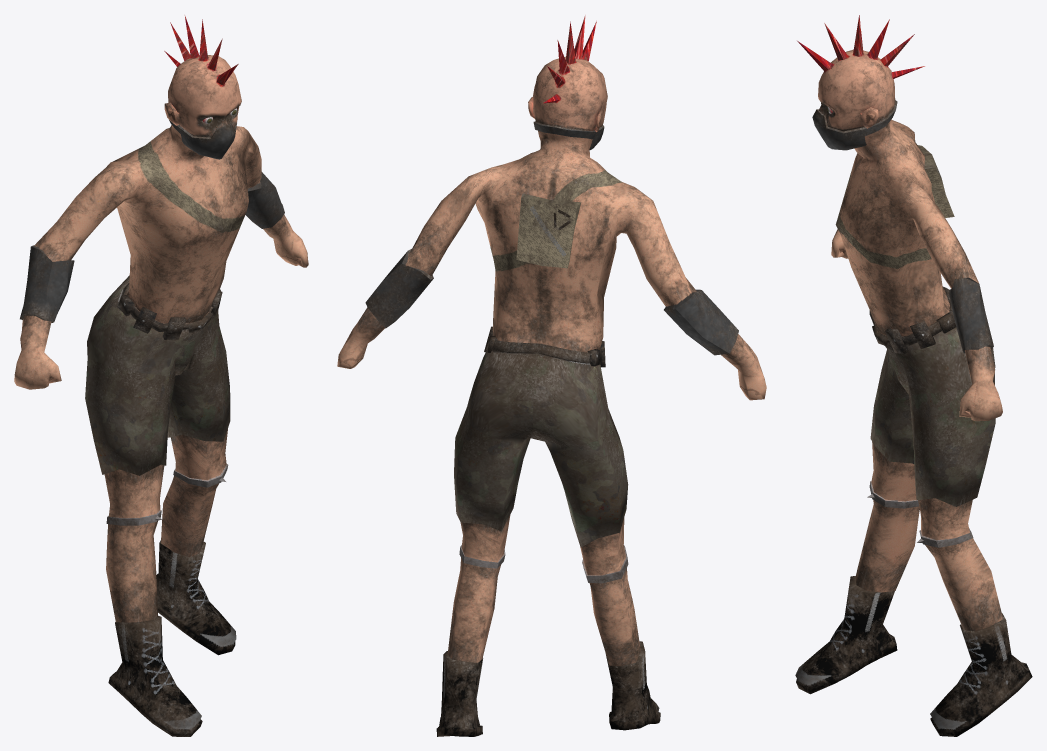
The model's file is Anim_arma_c_npc2.0035.obj.
The picture shows the model from 3 angles, left to right: view 1: azimuth 30°, elevation 25°; view 2: azimuth 150°, elevation 25°; view 3: azimuth 270°, elevation 25°; orthographic projection. The views are drawn at different scales.
Parts seen in each view (by area): view 1: polySurface1; view 2: polySurface1; view 3: polySurface1.
Boxes of the visible parts, bbox=[...] form: polySurface1: bbox=[14, 15, 308, 736]; polySurface1: bbox=[337, 15, 766, 736]; polySurface1: bbox=[795, 15, 1032, 736].
Size of the model in its own units: 5.57 by 10.43 by 3.23.
